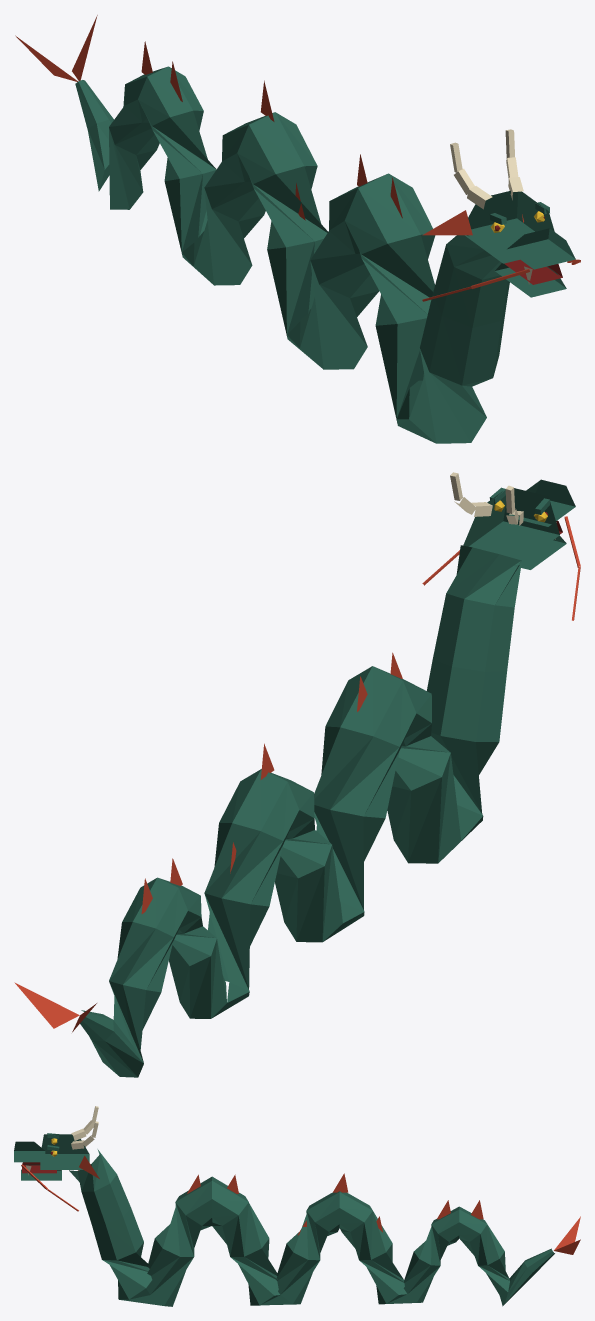
The model's file is monster_thuong_luong.glb.
The picture shows the model from 3 angles, top to bottom: view 1: azimuth 30°, elevation 25°; view 2: azimuth 150°, elevation 25°; view 3: azimuth 270°, elevation 25°; orthographic projection. The views are drawn at different scales.
Parts seen in each view (by area): view 1: monster_thuong_luong; view 2: monster_thuong_luong; view 3: monster_thuong_luong.
Part boxes in pixels (x1,y1,x2,y2): monster_thuong_luong: (15, 15, 580, 443); monster_thuong_luong: (14, 472, 580, 1077); monster_thuong_luong: (14, 1106, 580, 1306).
Size of the model in its own units: 2.53 by 5.37 by 14.46.
